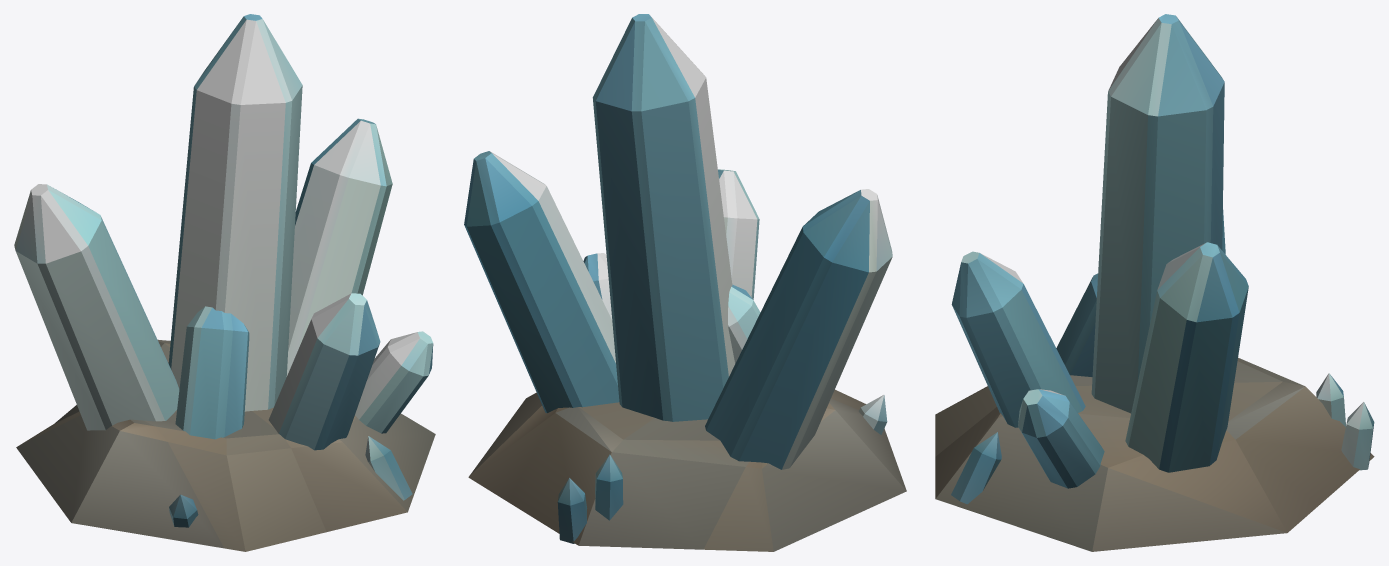
File: glass-crystals.low.glb
3 views of the same model, side by side, from view 1: azimuth 30°, elevation 25°; view 2: azimuth 150°, elevation 25°; view 3: azimuth 270°, elevation 25° (orthographic). The views are drawn at different scales.
Visible parts, largest first — view 1: glass-crystals; view 2: glass-crystals; view 3: glass-crystals.
Boxes of the visible parts, x1=… form: glass-crystals: x1=14, y1=14, x2=435, y2=551; glass-crystals: x1=464, y1=14, x2=906, y2=551; glass-crystals: x1=935, y1=14, x2=1374, y2=551.
Size of the model in its own units: 0.814 by 0.8857 by 0.7604.
